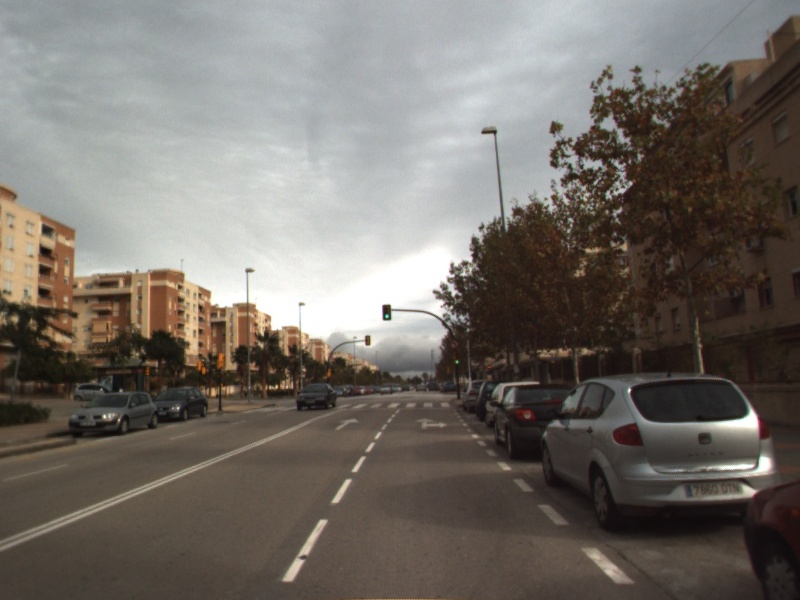STRAIGHT: (333, 416, 361, 432)
STRAIGHT_RIGHT: (413, 416, 450, 431)
